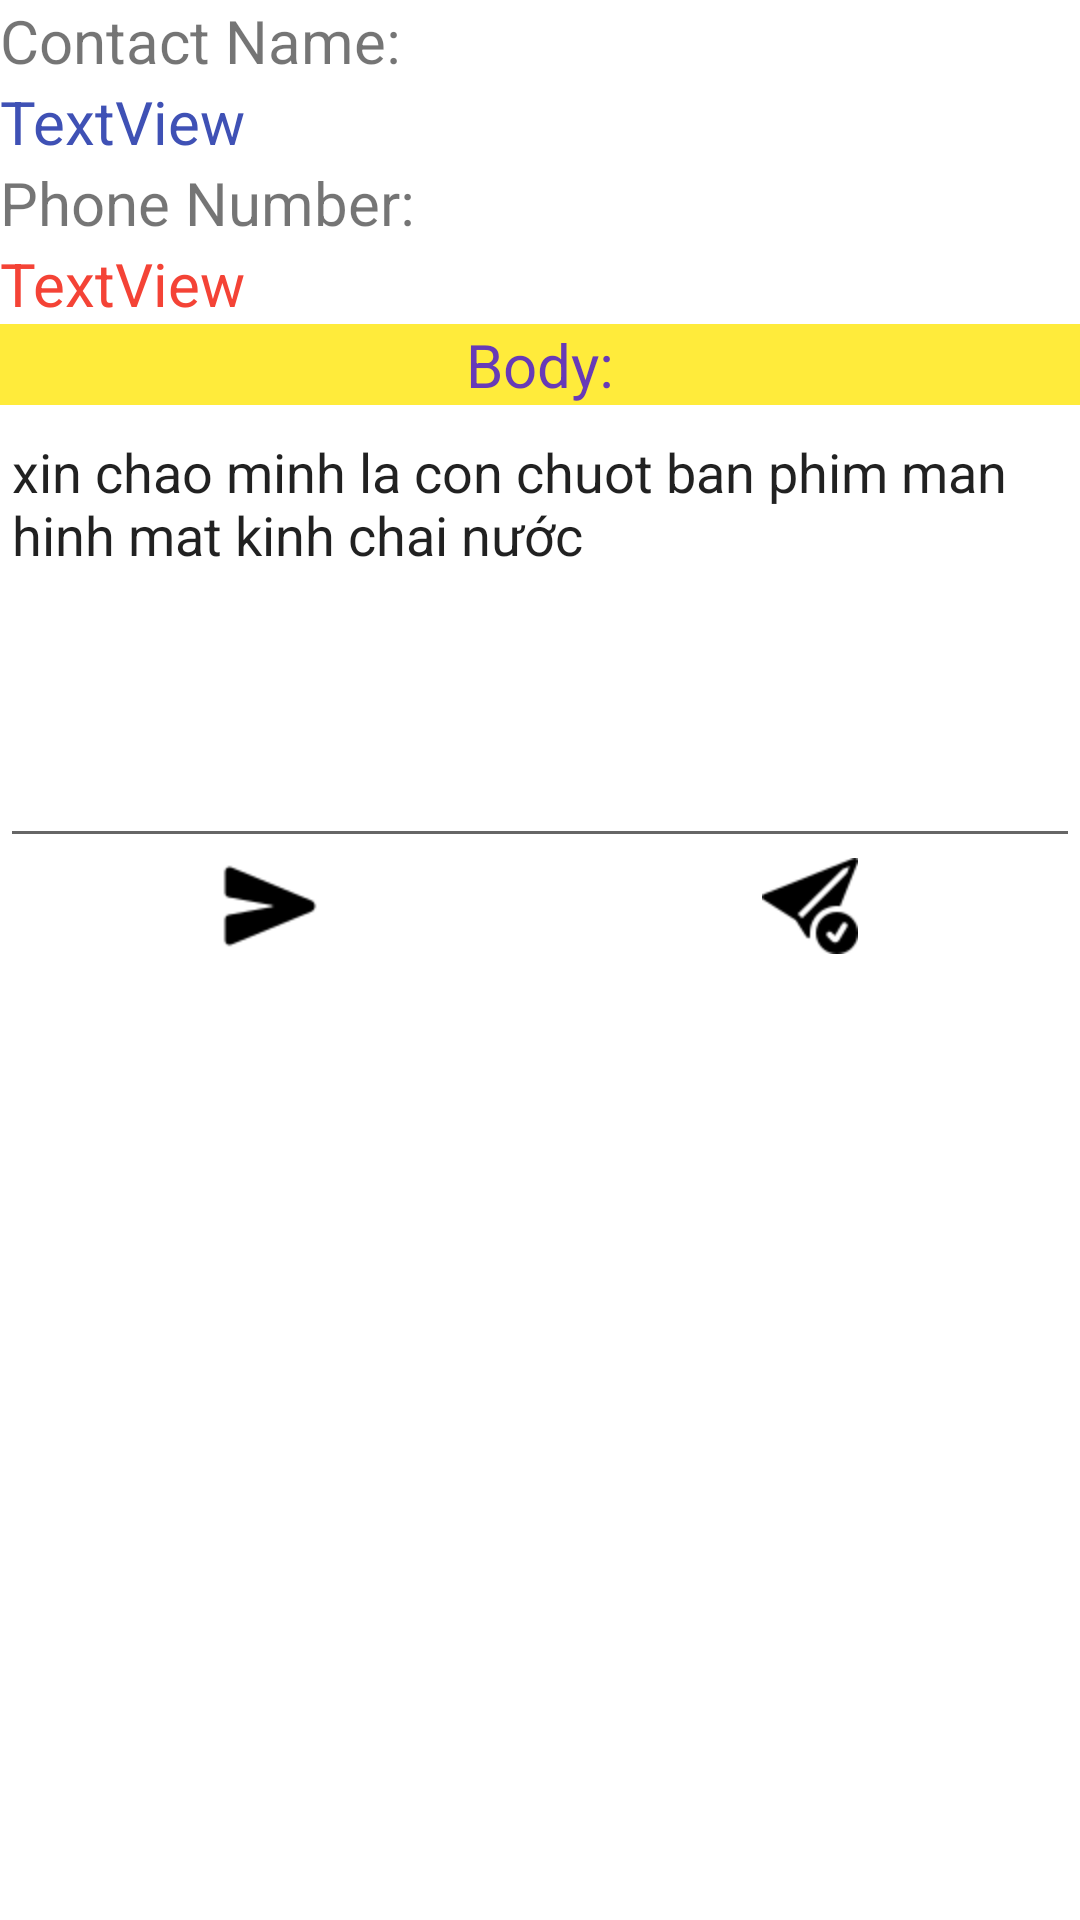

Icons on this 1080*1920 Android screen, each with the point to tap as (x,y):
send: (810,906), (270,906)
